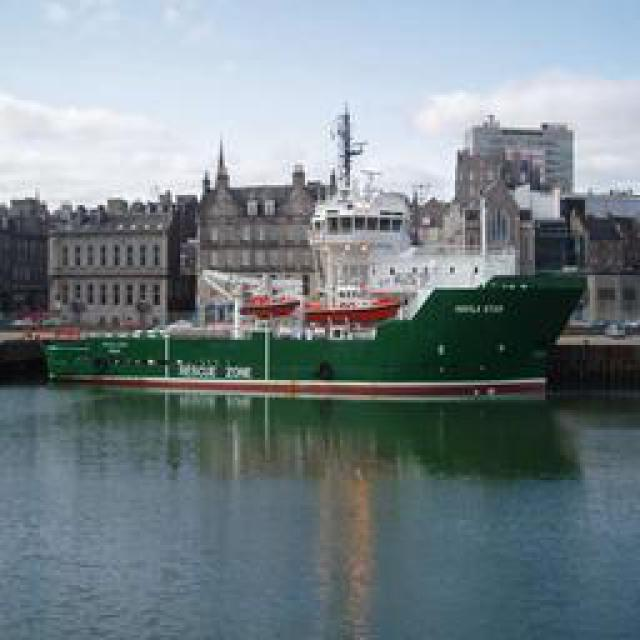Ship: (48, 276, 583, 386)
